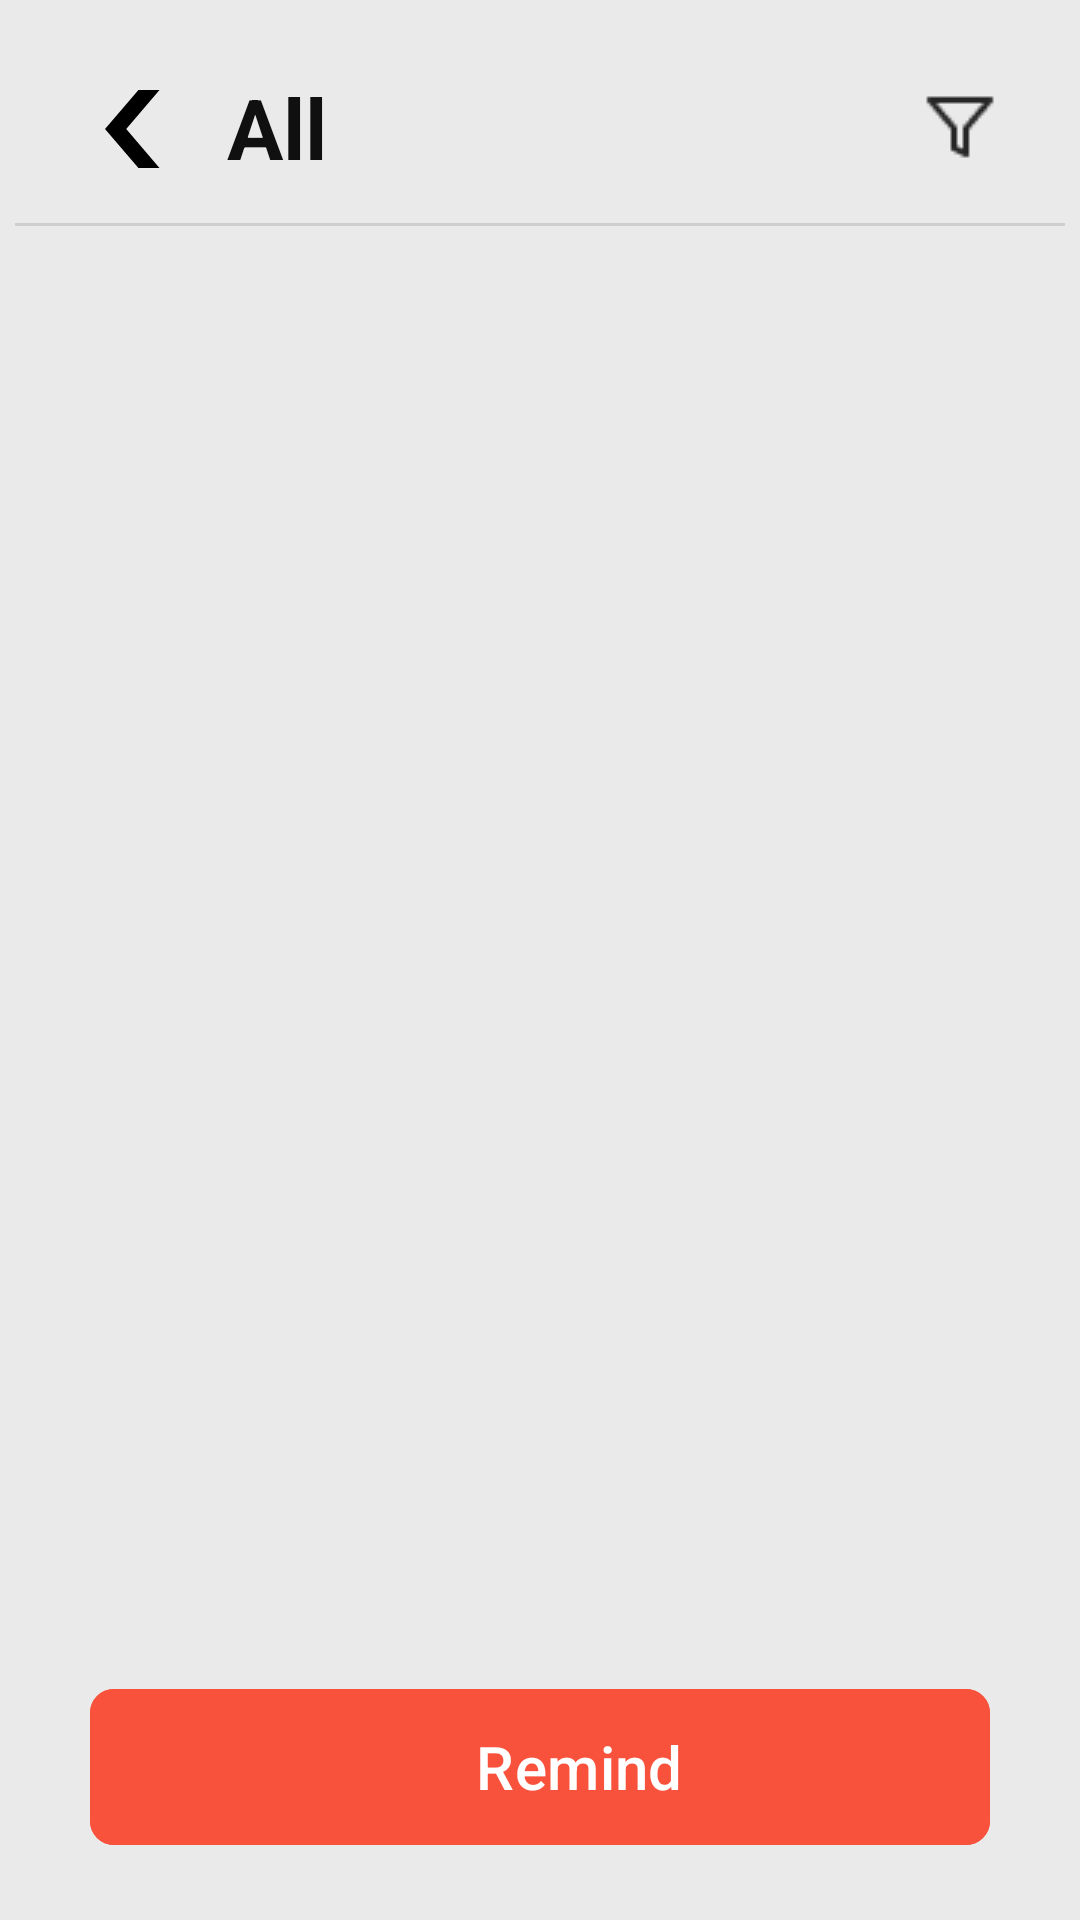

Locate icon controls on the screen. Image size 1080x1920, boxes as BBox(x1, y1, x2, y2).
filter: BBox(926, 96, 994, 158)
left arrow: BBox(105, 90, 160, 168)
